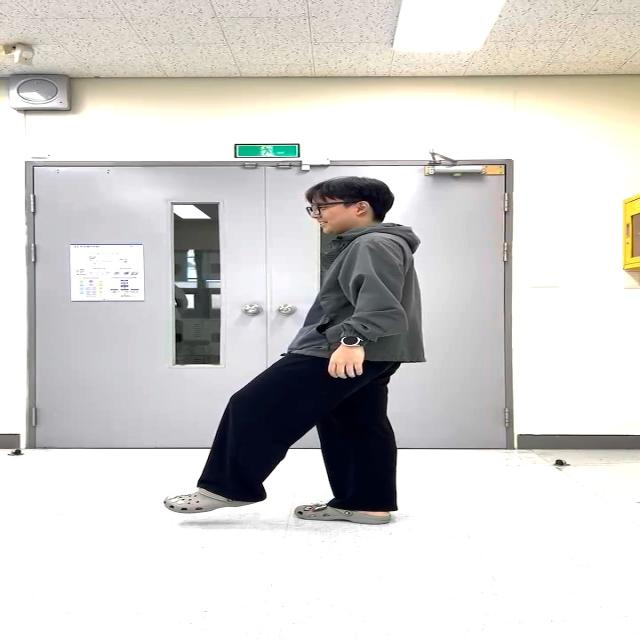leg: (162, 357, 326, 511)
